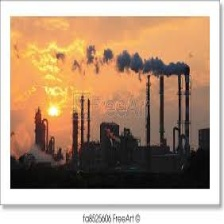smoke: (71, 44, 192, 84)
